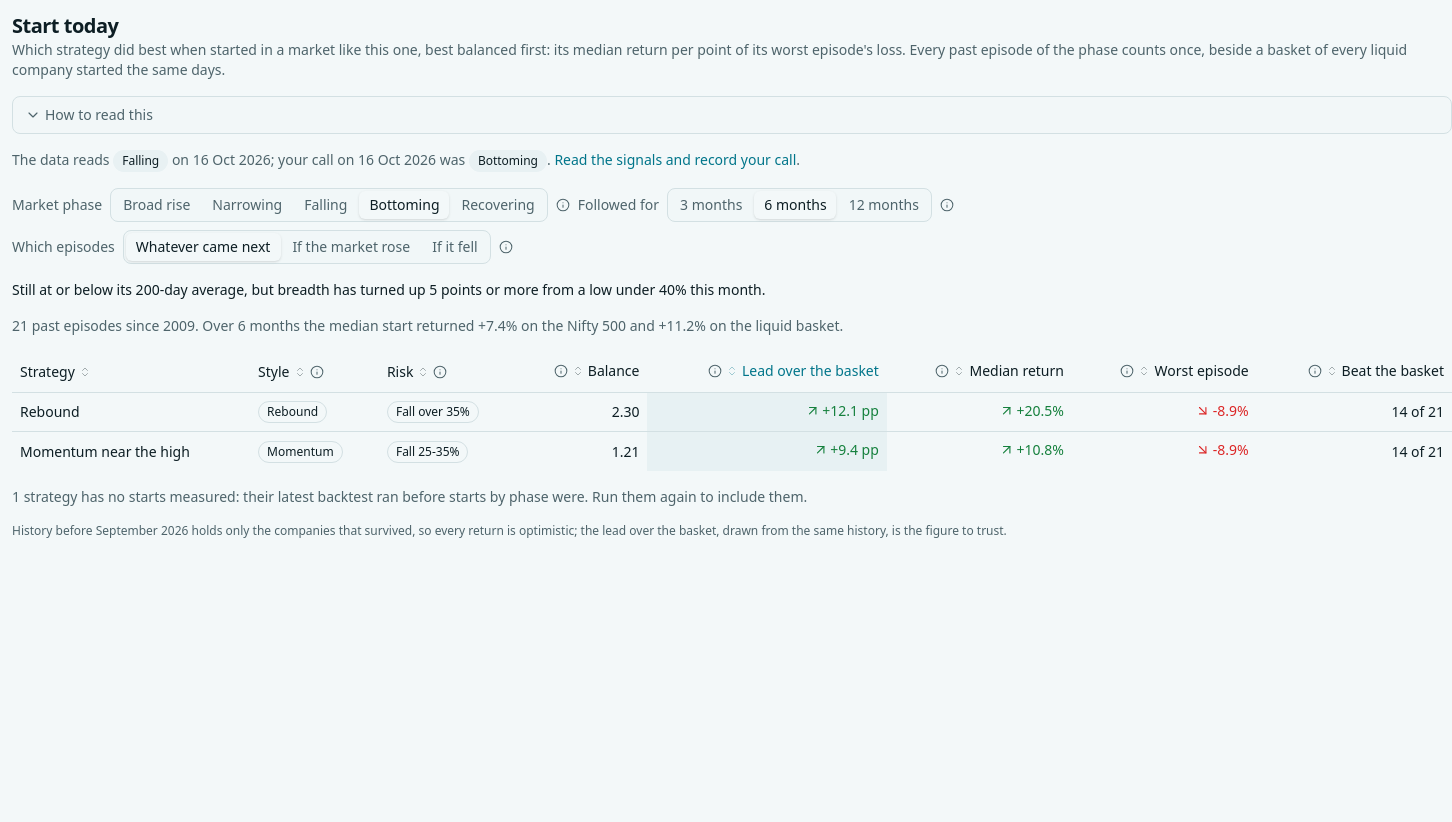
it: StartToday › asks again for the phase and horizon chosen and splits by what came next
Expected: the link "Rebound" is shown, [20,402,80,421]
Click the button "Recovering": point(498, 205) [452,191,545,219]
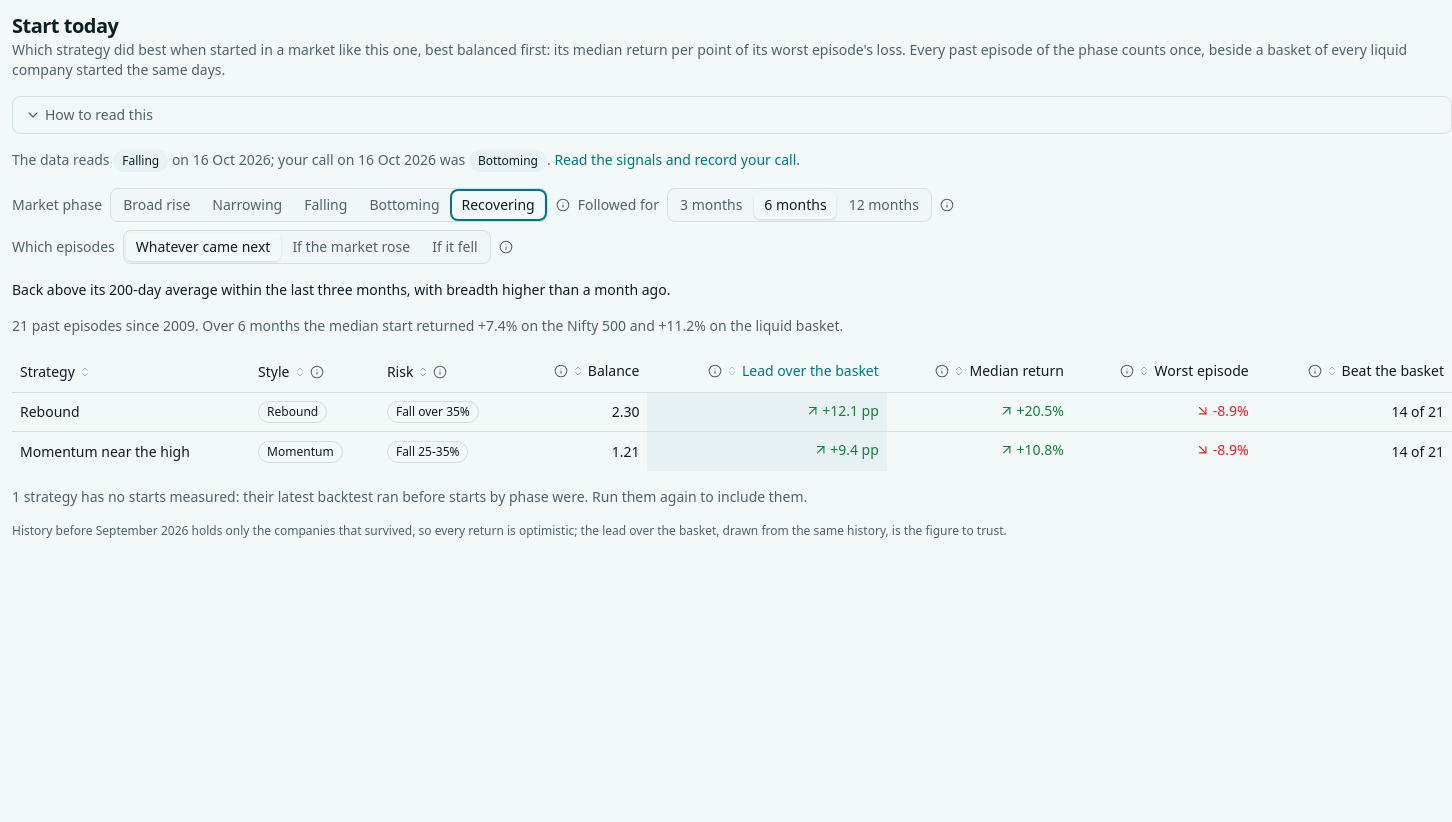
Click the button "12 months": point(884, 205) [839,191,929,219]
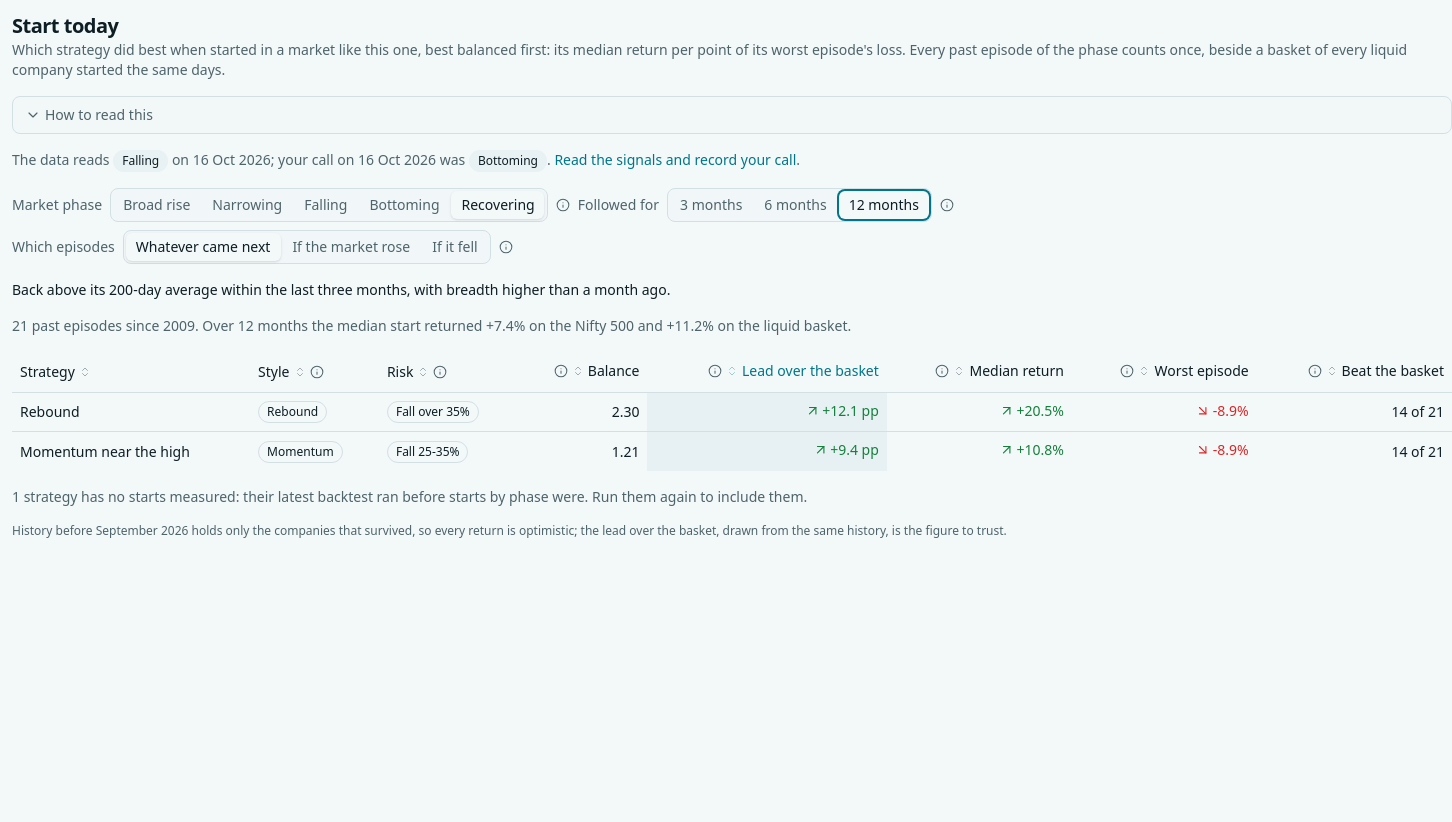
Click the button "If it fell": point(455, 247) [422,233,488,261]
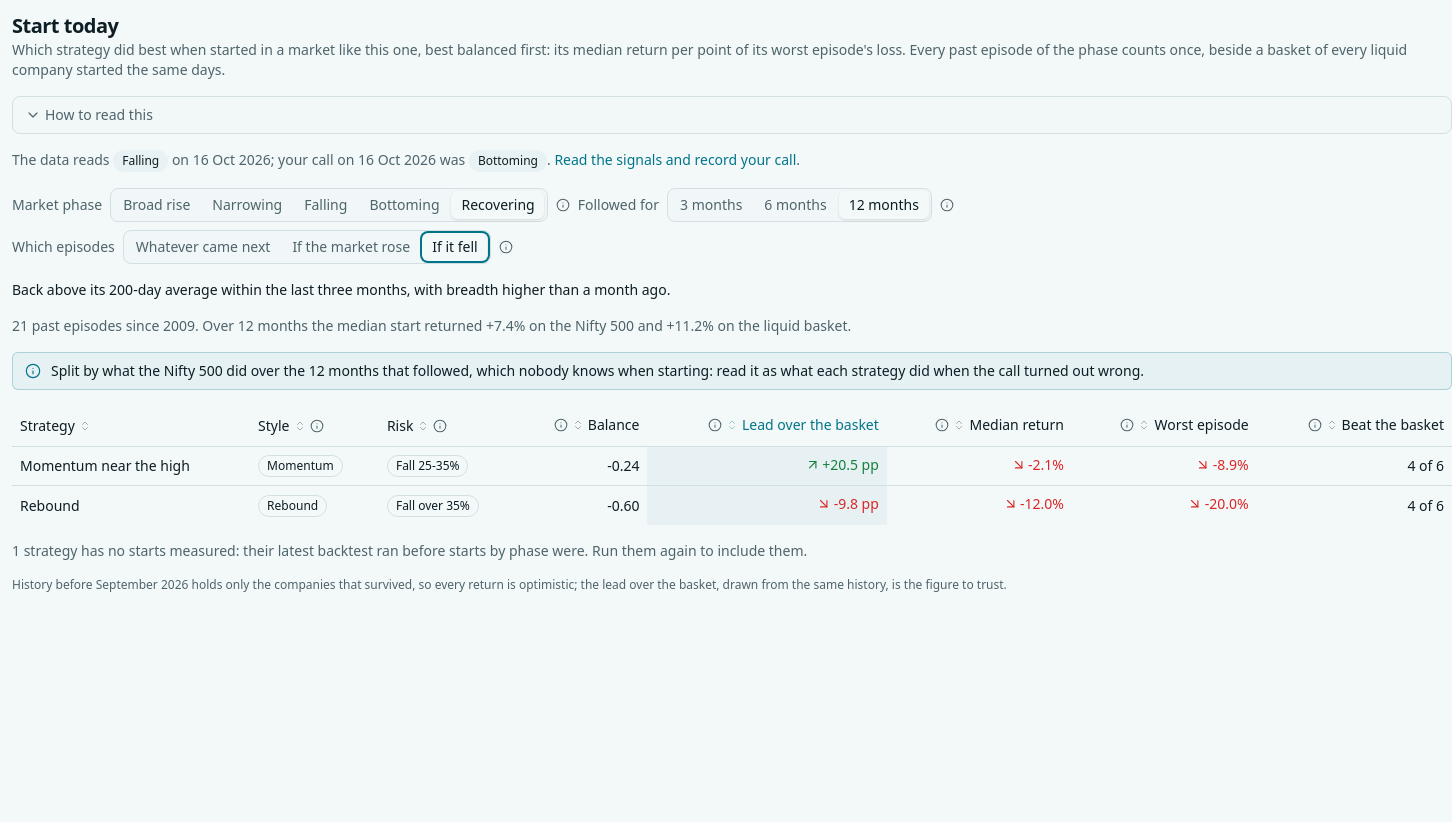
Now the element that starts with "Split by what the Nifty 500 did over the" shows "when the call turned out wrong", box [12,352,1451,390]
Click the button "If the market rose": point(351, 247) [282,233,420,261]
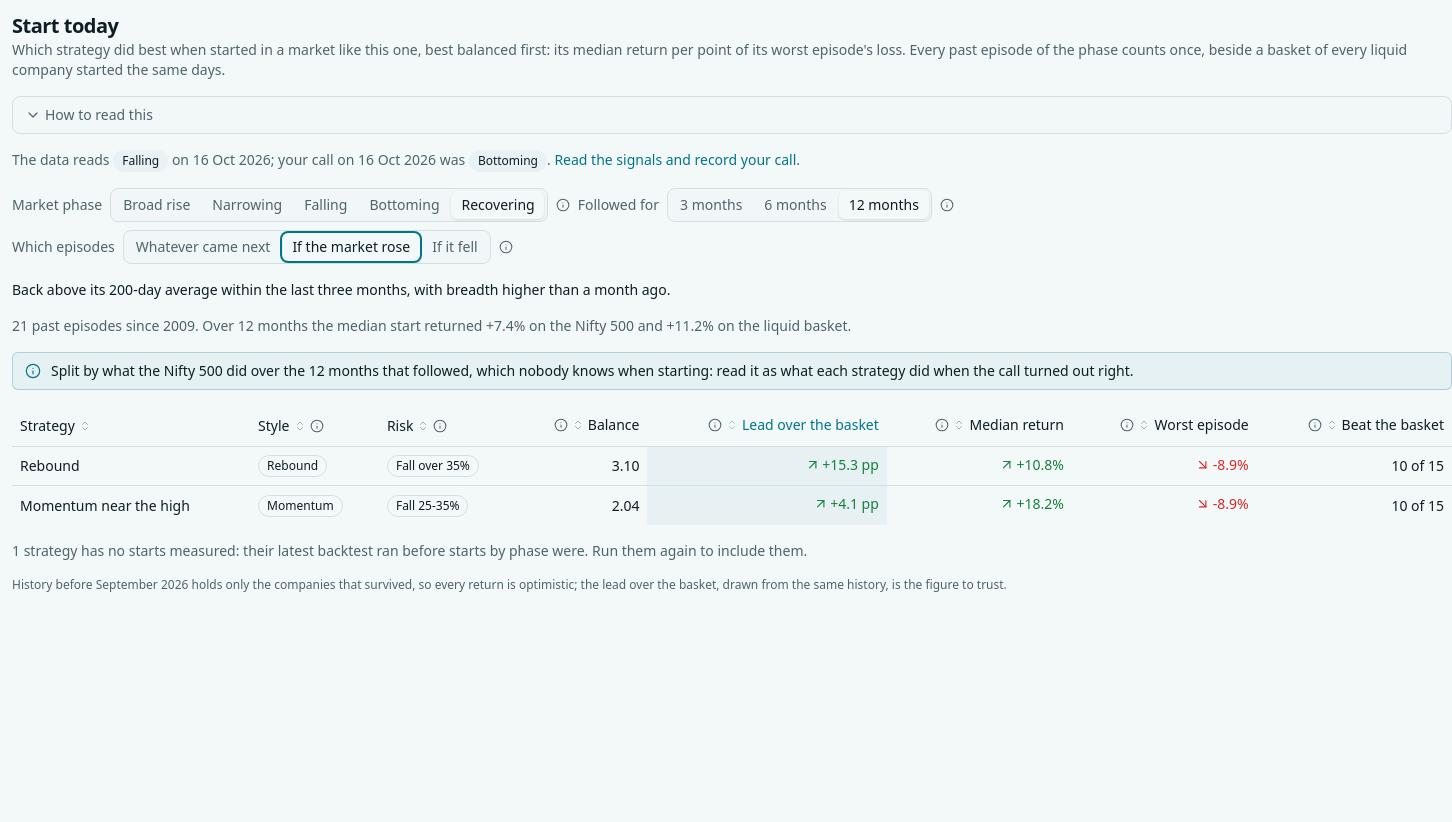
Now the element that starts with "Split by what the Nifty 500 did over the" shows "turned out right", box [12,352,1451,390]
